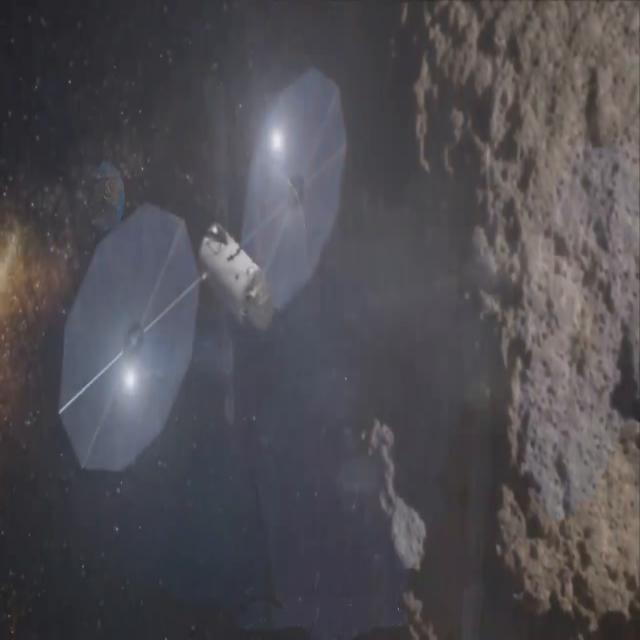large_debris: (253, 0, 640, 640), (348, 406, 431, 592)
satellite: (45, 51, 354, 482)
